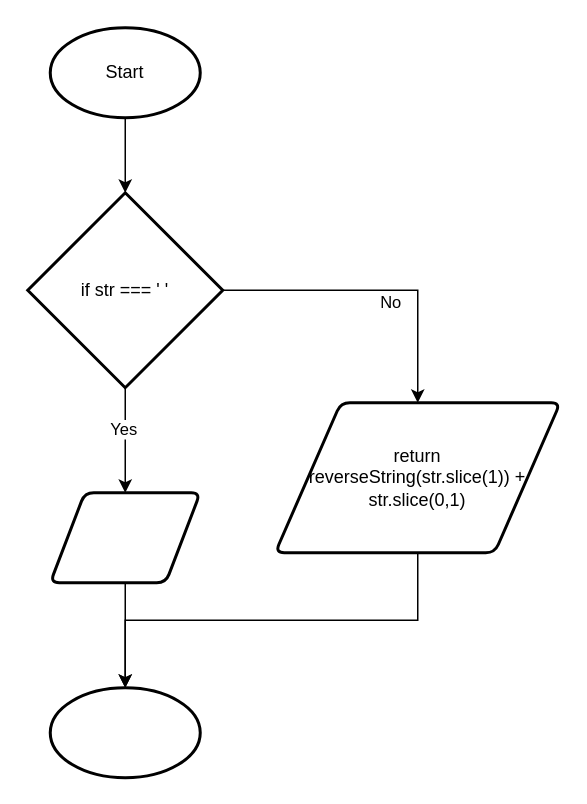
This 587x804 diagram has some shape labels left out. The shapes that lost their labels are listed below. From the top down, each one's centre as x and y in pixels, then its label:
At (x=124, y=537): "return str".
At (x=124, y=732): "Stop".
